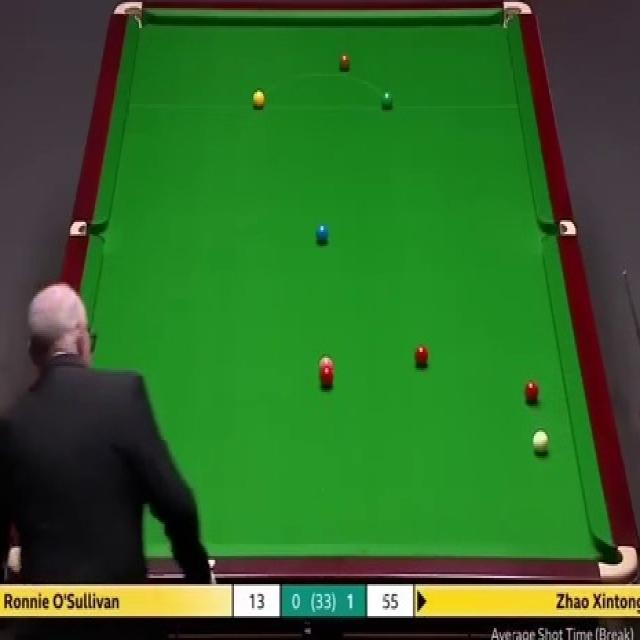blue-ball: (316, 225, 327, 245)
brown-ball: (336, 53, 352, 73)
green-ball: (380, 89, 393, 110)
pink-ball: (318, 356, 336, 368)
red-ball: (525, 378, 539, 408), (319, 368, 335, 391), (414, 345, 428, 367)
white-ball: (533, 429, 550, 454)
yellow-ball: (251, 89, 265, 110)
